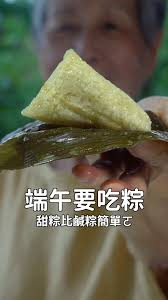zongzi: (22, 50, 150, 129)
